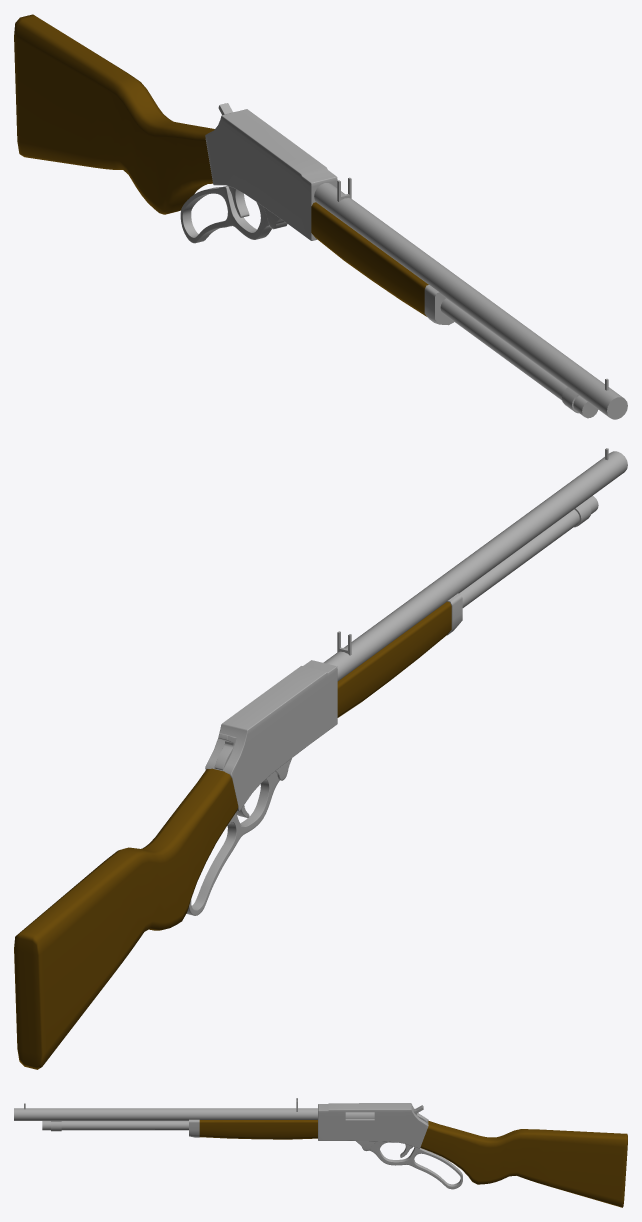
The model's file is LeverAction1.fbx.
3 renders of one model, top to bottom at view 1: azimuth 30°, elevation 25°; view 2: azimuth 150°, elevation 25°; view 3: azimuth 270°, elevation 25°, orthographic. The views are drawn at different scales.
Parts seen in each view (by area): view 1: LeverAction_Trigger1, LeverAction_Lever; view 2: LeverAction_Trigger1, LeverAction_Lever; view 3: LeverAction_Trigger1, LeverAction_Lever.
Part boxes in pixels (x1=…): LeverAction_Trigger1: x1=14, y1=14, x2=627, y2=419; LeverAction_Lever: x1=180, y1=186, x2=271, y2=243; LeverAction_Trigger1: x1=14, y1=448, x2=627, y2=1069; LeverAction_Lever: x1=186, y1=771, x2=279, y2=915; LeverAction_Trigger1: x1=14, y1=1098, x2=627, y2=1207; LeverAction_Lever: x1=369, y1=1141, x2=462, y2=1189.
Size of the model in its own units: 3.18 by 22.46 by 117.
